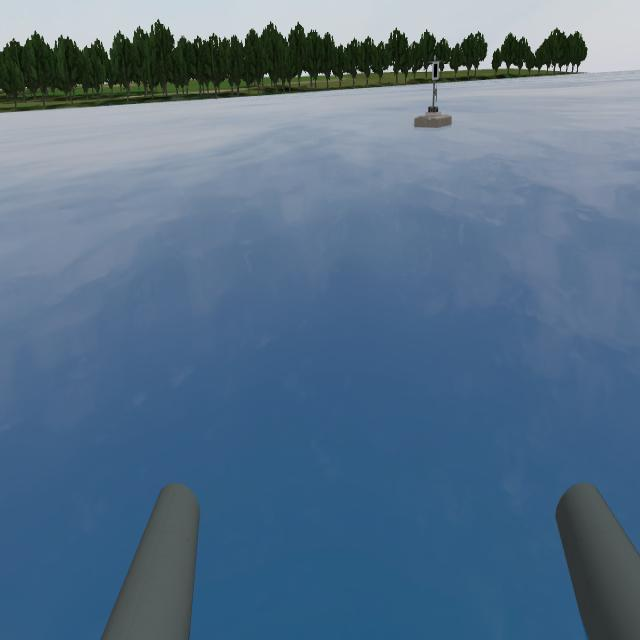black_pole: (431, 54, 440, 82)
